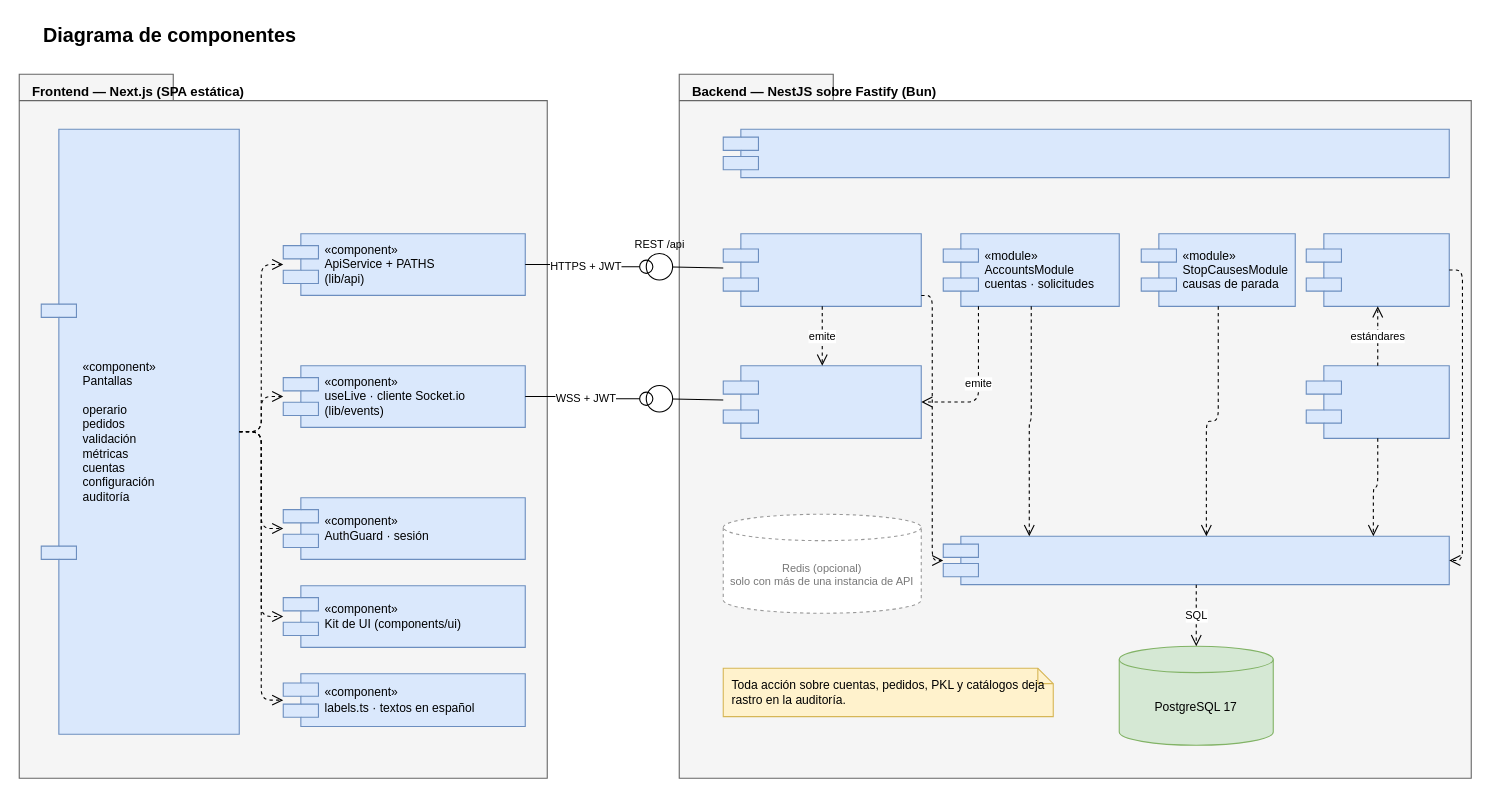
The diagram is 1493 pixels wide and 798 high, and some of its shapes have lost their labels. Each missing label, with the centre of its shape:
"WebSocket" belongs at pixel 659 398.
"«module» AuthModule — JWT y guards por rol; lo importan todos los módulos" belongs at pixel 1085 153.
"«module» CatalogsModule catálogos · parámetros" belongs at pixel 1377 269.
"«module» DbModule — Drizzle ORM" belongs at pixel 1195 560.
"«module» EventsModule gateway Socket.io · salas" belongs at pixel 821 401.
"«module» MetricsModule OLE · métricas vigentes" belongs at pixel 1377 401.
"«module» OrdersModule pedidos · PKL · alisto · validación" belongs at pixel 821 269.
